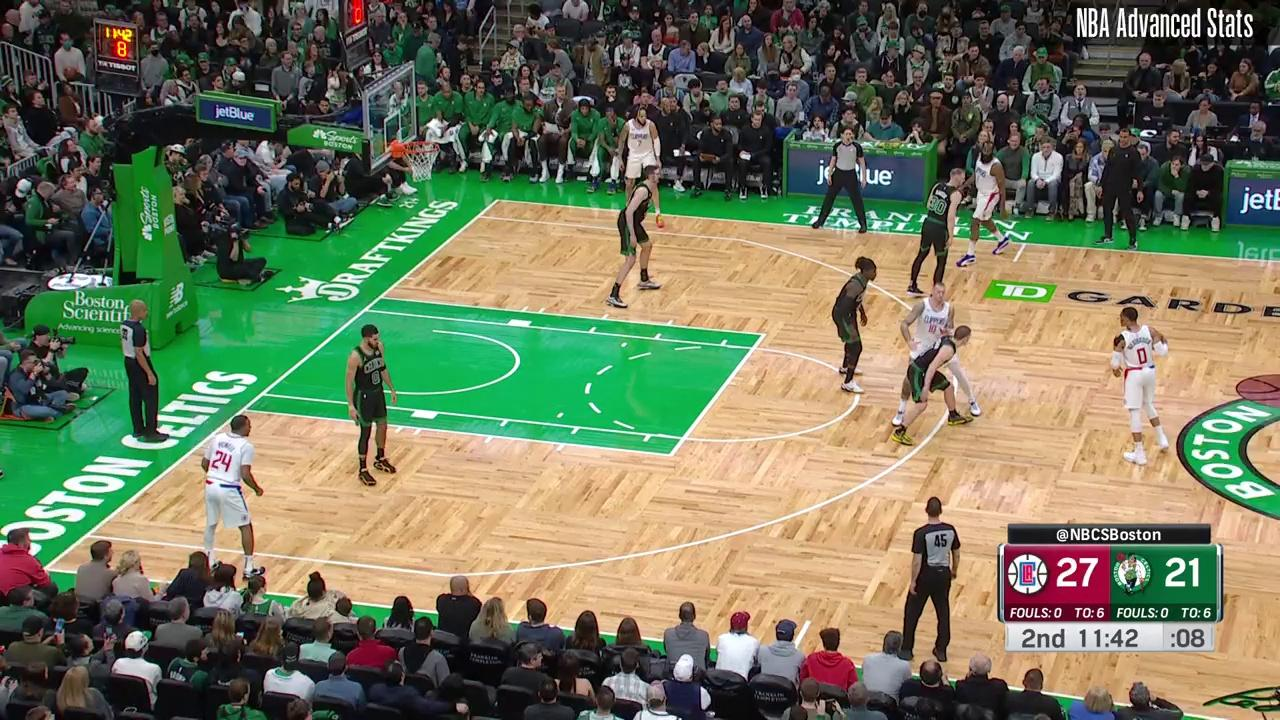3_dx: (473, 212, 482, 221)
3_sx: (81, 530, 93, 541)
b_dx: (492, 196, 502, 205)
b_sx: (39, 563, 51, 574)
free_adx: (757, 330, 769, 341)
free_asx: (665, 449, 677, 461)
free_bdx: (375, 293, 387, 302)
free_bsx: (238, 403, 250, 415)
mid_dx: (1010, 257, 1020, 266)
mid_sx: (803, 616, 814, 626)
referee: (895, 496, 964, 661), (121, 300, 177, 446), (816, 129, 870, 234)
team: (893, 325, 971, 449), (345, 323, 402, 487), (608, 166, 665, 305), (909, 169, 963, 296), (832, 257, 878, 397)
team1: (198, 413, 271, 577), (898, 280, 981, 418), (1104, 308, 1173, 466), (953, 141, 1014, 266), (617, 103, 672, 229)
timer: (1077, 618, 1140, 650)
